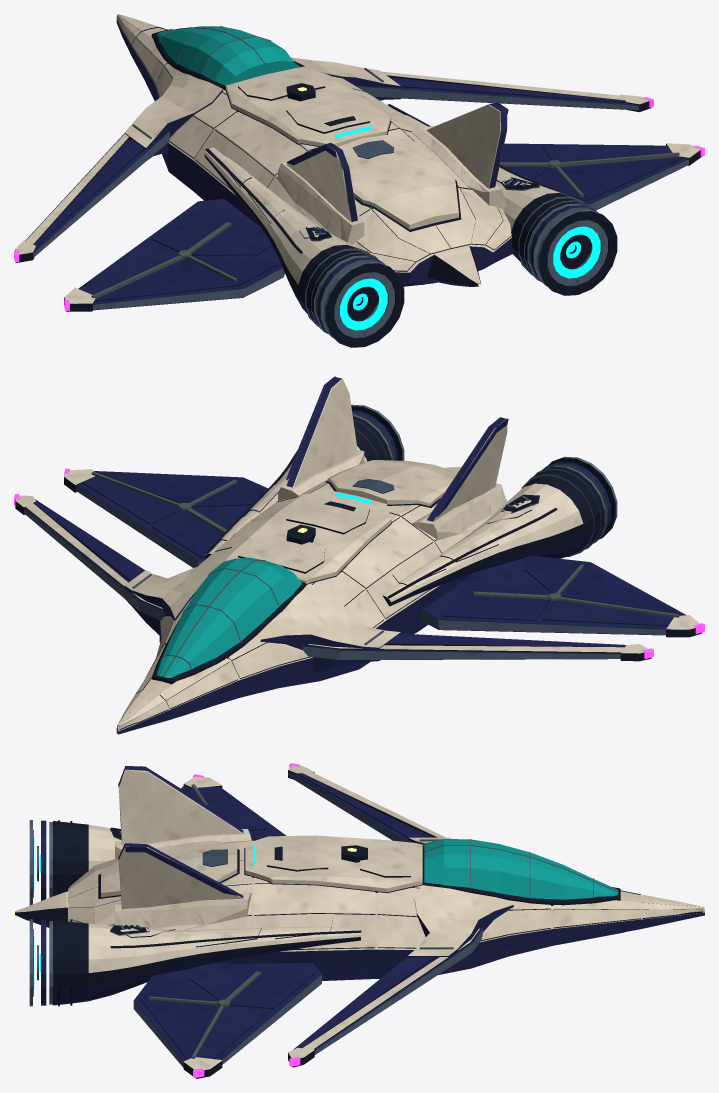
The model's file is aurora-four-wing-v4.glb.
The picture shows the model from 3 angles, top to bottom: view 1: azimuth 30°, elevation 25°; view 2: azimuth 150°, elevation 25°; view 3: azimuth 270°, elevation 25°; orthographic projection. The views are drawn at different scales.
Visible parts, largest first — view 1: AURORA_FOUR_WING_V4_IVORY, AURORA_FOUR_WING_V4_INDIGO, AURORA_FOUR_WING_V4_NAVY, AURORA_FOUR_WING_V4_METAL, AURORA_FOUR_WING_V4_CANOPY, AURORA_FOUR_WING_V4_CYAN; view 2: AURORA_FOUR_WING_V4_IVORY, AURORA_FOUR_WING_V4_INDIGO, AURORA_FOUR_WING_V4_NAVY, AURORA_FOUR_WING_V4_METAL, AURORA_FOUR_WING_V4_CANOPY; view 3: AURORA_FOUR_WING_V4_IVORY, AURORA_FOUR_WING_V4_INDIGO, AURORA_FOUR_WING_V4_NAVY, AURORA_FOUR_WING_V4_CANOPY, AURORA_FOUR_WING_V4_METAL.
Boxes of the visible parts, x1,y1,x2,y2 form: AURORA_FOUR_WING_V4_IVORY: [15, 14, 700, 303]; AURORA_FOUR_WING_V4_INDIGO: [25, 20, 688, 337]; AURORA_FOUR_WING_V4_NAVY: [16, 17, 701, 347]; AURORA_FOUR_WING_V4_METAL: [33, 26, 688, 342]; AURORA_FOUR_WING_V4_CANOPY: [157, 26, 300, 85]; AURORA_FOUR_WING_V4_CYAN: [335, 126, 600, 330]; AURORA_FOUR_WING_V4_IVORY: [15, 378, 699, 731]; AURORA_FOUR_WING_V4_INDIGO: [24, 376, 686, 734]; AURORA_FOUR_WING_V4_NAVY: [15, 406, 701, 729]; AURORA_FOUR_WING_V4_METAL: [24, 404, 679, 733]; AURORA_FOUR_WING_V4_CANOPY: [156, 557, 301, 677]; AURORA_FOUR_WING_V4_IVORY: [15, 765, 704, 1069]; AURORA_FOUR_WING_V4_INDIGO: [15, 766, 704, 1062]; AURORA_FOUR_WING_V4_NAVY: [15, 770, 703, 1078]; AURORA_FOUR_WING_V4_CANOPY: [424, 839, 618, 899]; AURORA_FOUR_WING_V4_METAL: [29, 772, 618, 1067].
Bounding box in the file's own units: 12.24 × 2.81 × 12.02.
8 materials, 4 textured.
